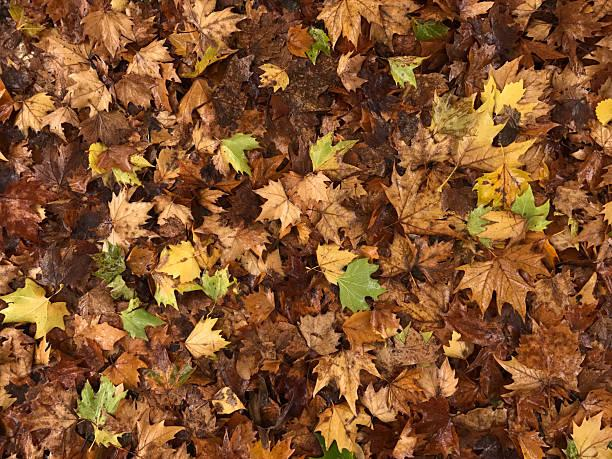organic: (452, 240, 550, 322), (496, 318, 584, 402), (452, 118, 540, 182), (387, 355, 460, 419), (302, 177, 365, 248), (2, 278, 71, 341), (393, 234, 461, 295), (315, 0, 387, 53), (332, 254, 388, 314), (193, 210, 252, 265), (0, 188, 51, 249), (312, 402, 367, 458), (79, 6, 136, 60), (252, 177, 303, 237), (75, 374, 128, 430), (40, 346, 99, 392), (331, 89, 384, 140), (130, 410, 186, 458), (262, 113, 310, 169), (429, 91, 482, 141), (550, 0, 603, 50), (168, 158, 221, 206), (64, 65, 114, 115), (153, 240, 203, 289), (478, 73, 528, 121), (38, 31, 91, 75), (272, 367, 314, 422), (10, 90, 58, 138), (183, 315, 233, 361), (124, 39, 174, 85), (143, 355, 199, 396), (78, 106, 133, 147), (309, 130, 359, 175), (296, 310, 341, 358), (173, 77, 213, 131), (509, 184, 553, 233), (96, 348, 147, 390), (217, 132, 263, 178), (486, 4, 523, 61), (0, 326, 37, 383), (567, 410, 610, 458), (67, 201, 112, 246), (118, 299, 165, 342), (476, 350, 513, 403), (152, 198, 196, 242), (359, 382, 401, 426), (571, 210, 609, 256), (444, 18, 479, 67), (75, 284, 121, 321), (384, 55, 429, 92), (197, 266, 237, 307), (180, 44, 226, 79), (547, 62, 594, 96), (91, 243, 128, 285), (239, 285, 276, 327), (336, 51, 371, 94), (390, 416, 423, 459), (248, 431, 298, 459), (518, 37, 562, 68), (575, 149, 606, 192), (208, 385, 248, 418), (7, 1, 43, 37), (125, 241, 159, 279), (466, 204, 496, 245), (153, 145, 184, 184), (226, 421, 258, 458), (1, 62, 35, 96), (441, 329, 474, 361), (256, 63, 289, 94), (414, 34, 449, 63), (410, 17, 450, 42), (514, 430, 548, 459), (306, 27, 332, 64), (266, 92, 294, 123), (166, 30, 198, 57), (86, 141, 109, 177), (110, 166, 143, 189), (458, 1, 496, 20), (542, 238, 560, 268), (594, 98, 612, 127), (0, 101, 16, 125), (565, 438, 579, 458)
